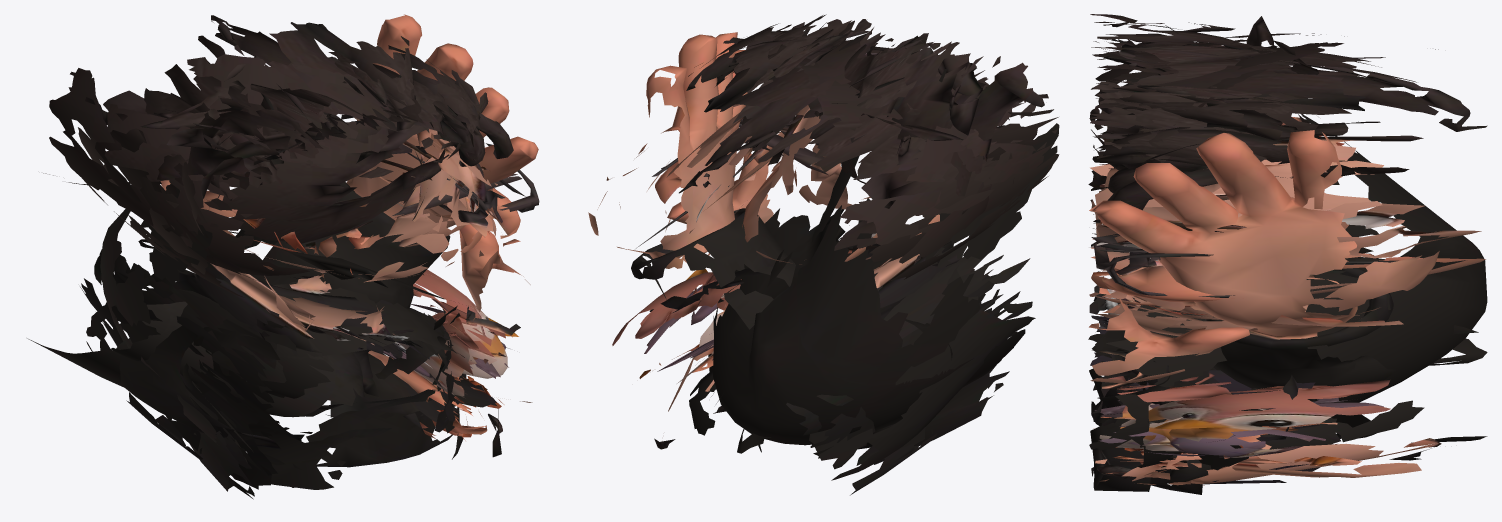
File: avatar.glb
The picture shows the model from 3 angles, left to right: view 1: azimuth 30°, elevation 25°; view 2: azimuth 150°, elevation 25°; view 3: azimuth 270°, elevation 25°; orthographic projection. The views are drawn at different scales.
Visible parts, largest first — view 1: tripo_node_b6c4732e-cb69-4cd2-8e50-78e96dfae9d3; view 2: tripo_node_b6c4732e-cb69-4cd2-8e50-78e96dfae9d3; view 3: tripo_node_b6c4732e-cb69-4cd2-8e50-78e96dfae9d3.
Boxes of the visible parts, x1,y1,x2,y2 form: tripo_node_b6c4732e-cb69-4cd2-8e50-78e96dfae9d3: (27, 14, 539, 499); tripo_node_b6c4732e-cb69-4cd2-8e50-78e96dfae9d3: (588, 14, 1059, 495); tripo_node_b6c4732e-cb69-4cd2-8e50-78e96dfae9d3: (1088, 14, 1487, 494).
Size of the model in its own units: 2 by 2 by 2.
1 material, 1 textured.
